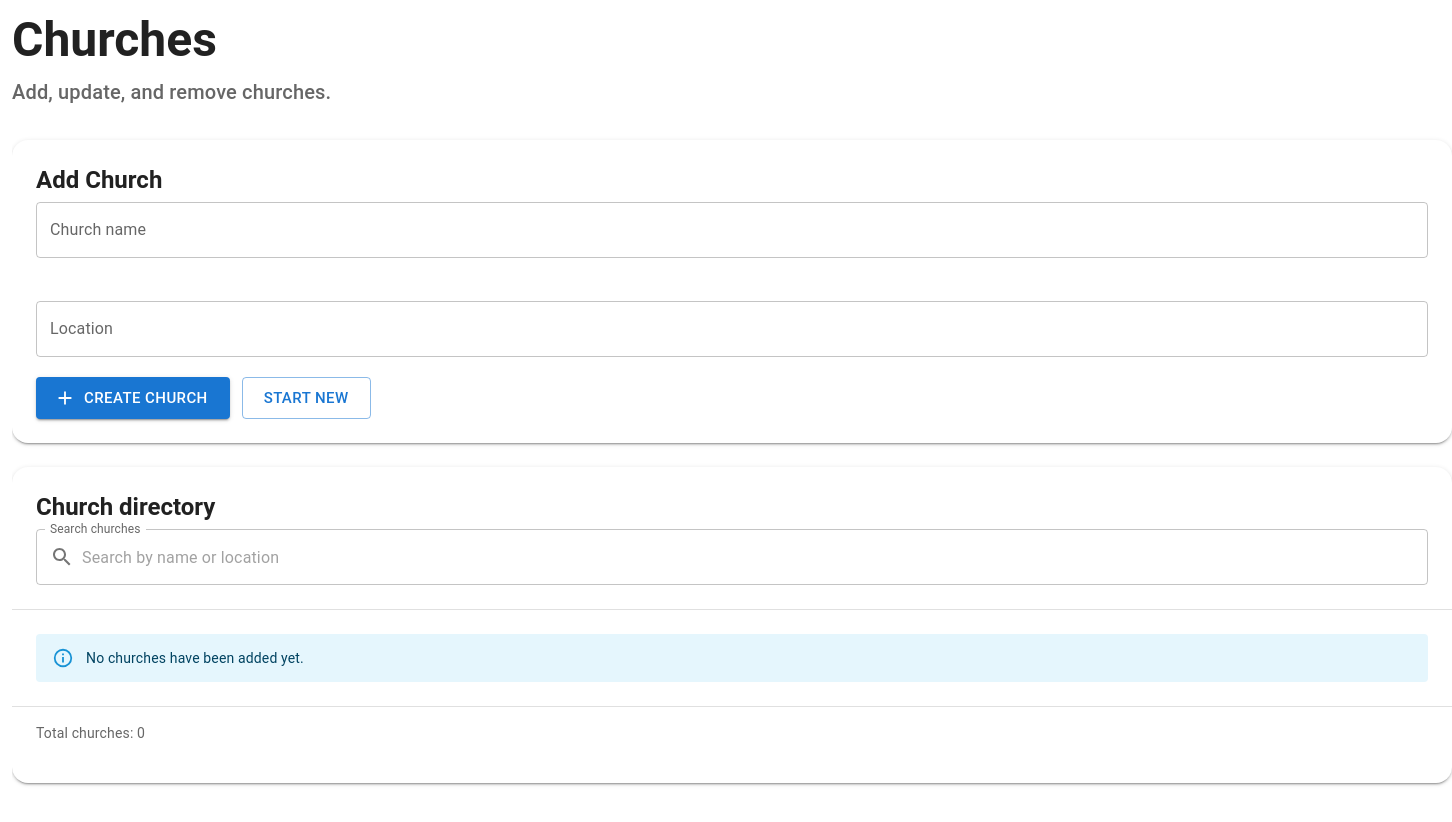
Test: ChurchManagementPage › creates a church and returns the form to create mode
Check: the text "No churches have been added yet." is shown, box [86,650,304,666]
Type "St. Luke" into the field labelled "Church name" at (732, 230), box [36,202,1428,258]
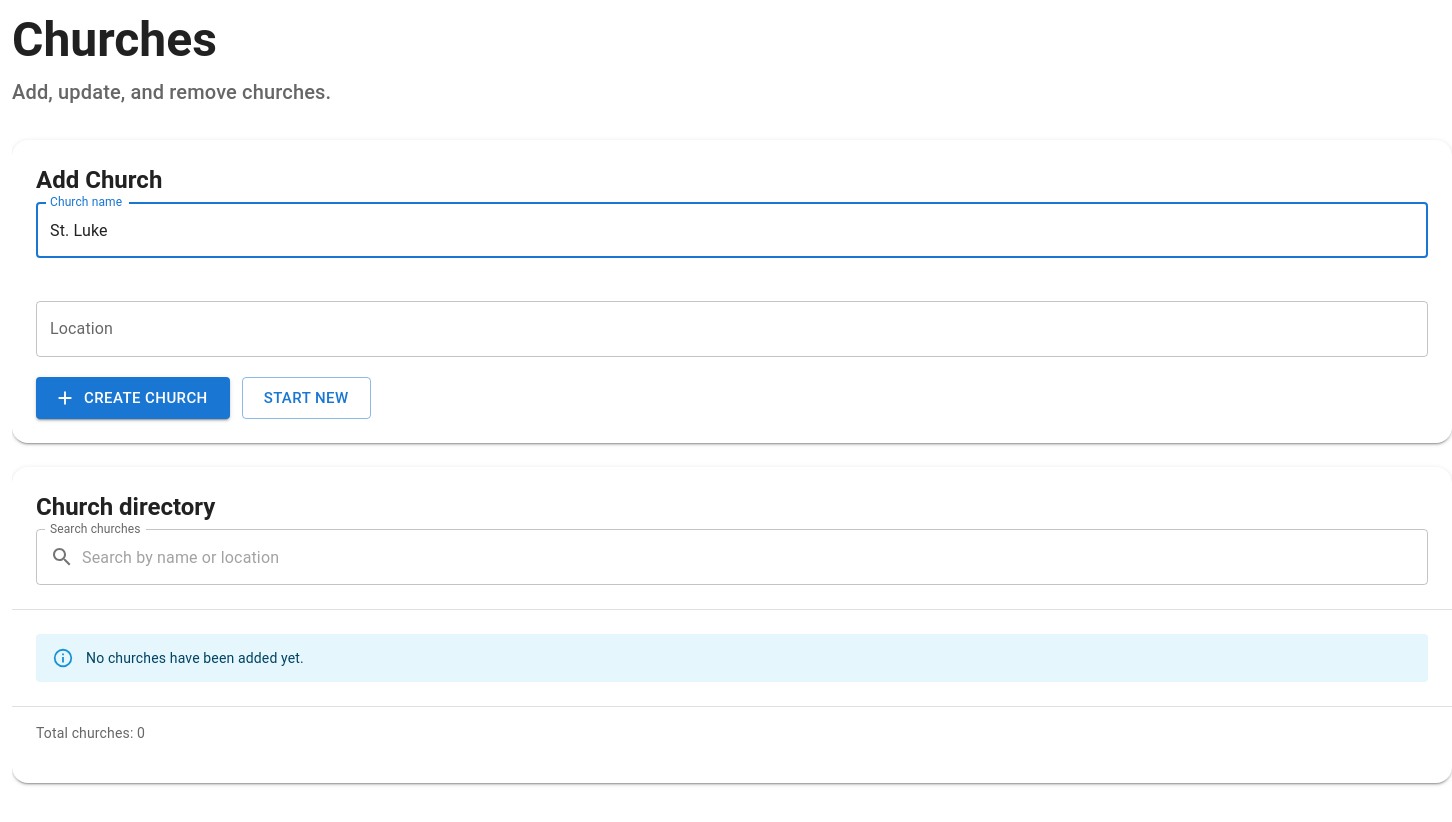
Type "Cartago" into the field labelled "Location" at (732, 329), box [36,301,1428,357]
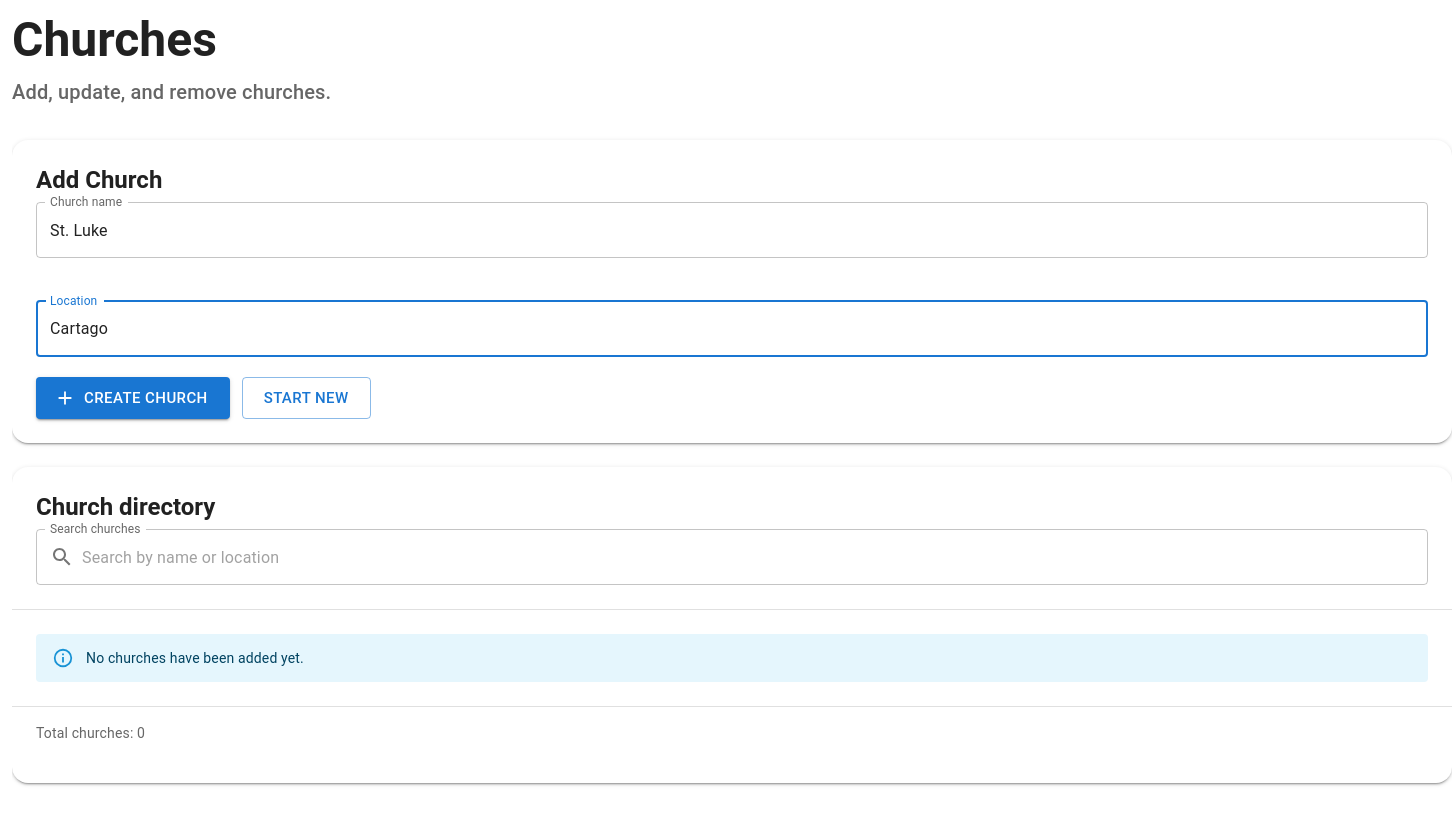
Click the button "Create Church" at (133, 398), box [36,377,230,419]
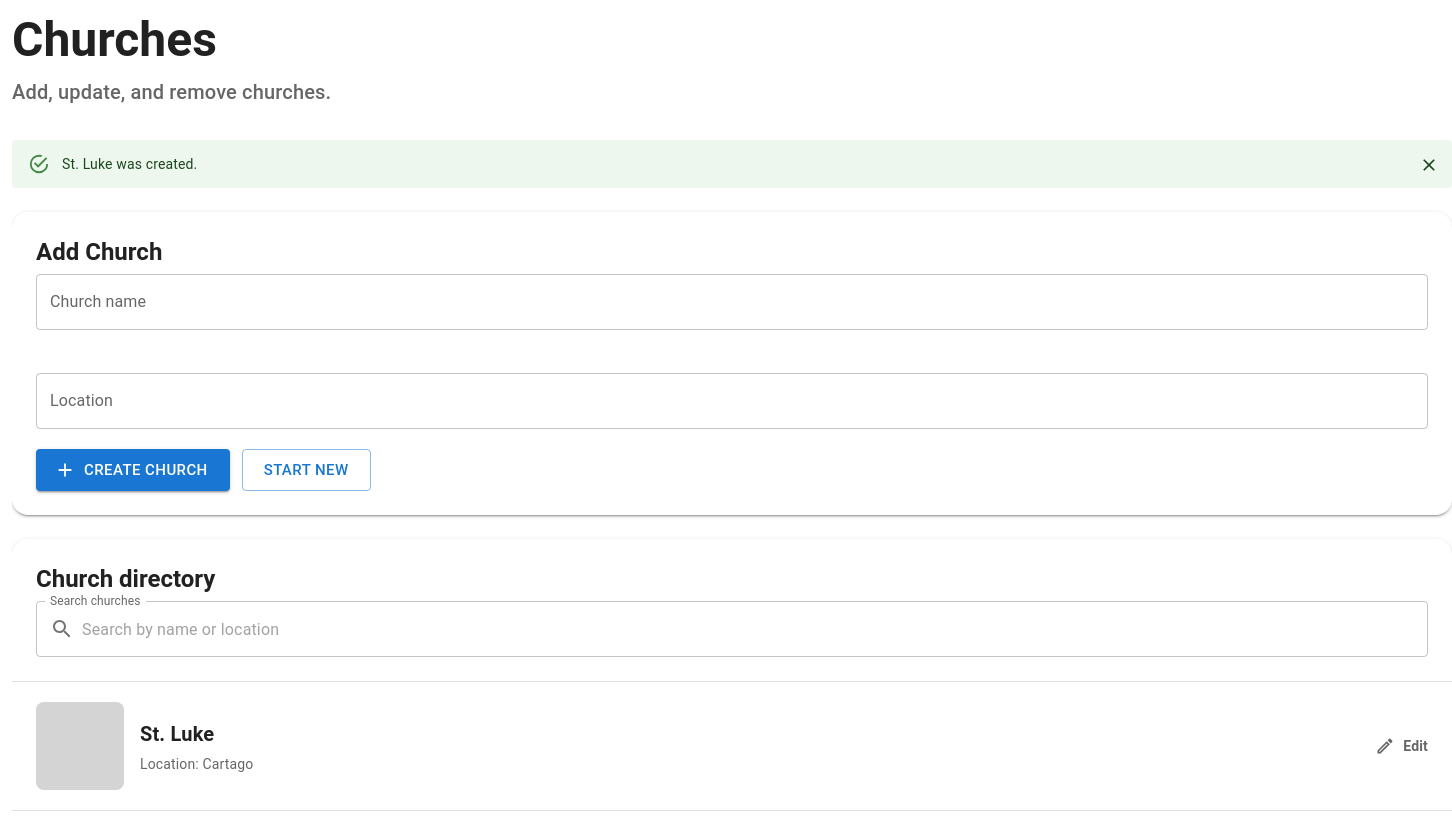
Check: the text "St. Luke was created." is shown, box [62,156,197,172]
Check: the button "St. Luke Location: Cartago Edit" is shown, box [12,682,1451,810]
Check: the field labelled "Church name" is empty, box [36,274,1428,330]
